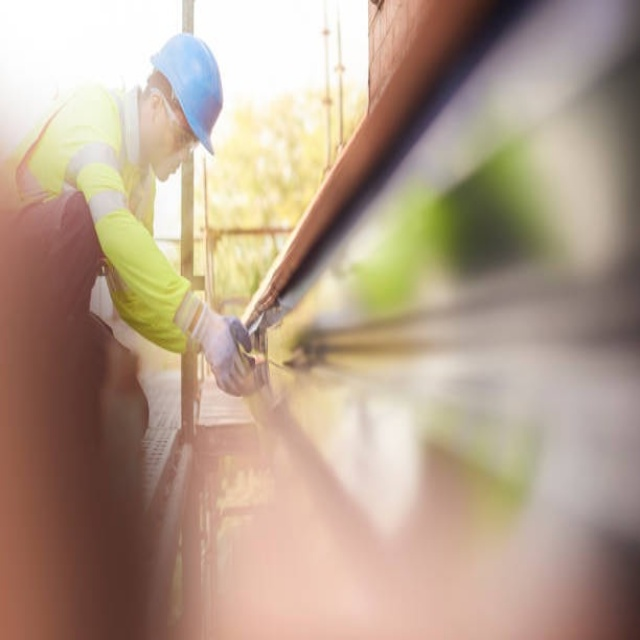Gafas: (155, 85, 195, 153)
Guantes: (187, 296, 256, 395)
Sin_mascara: (158, 151, 189, 182)
